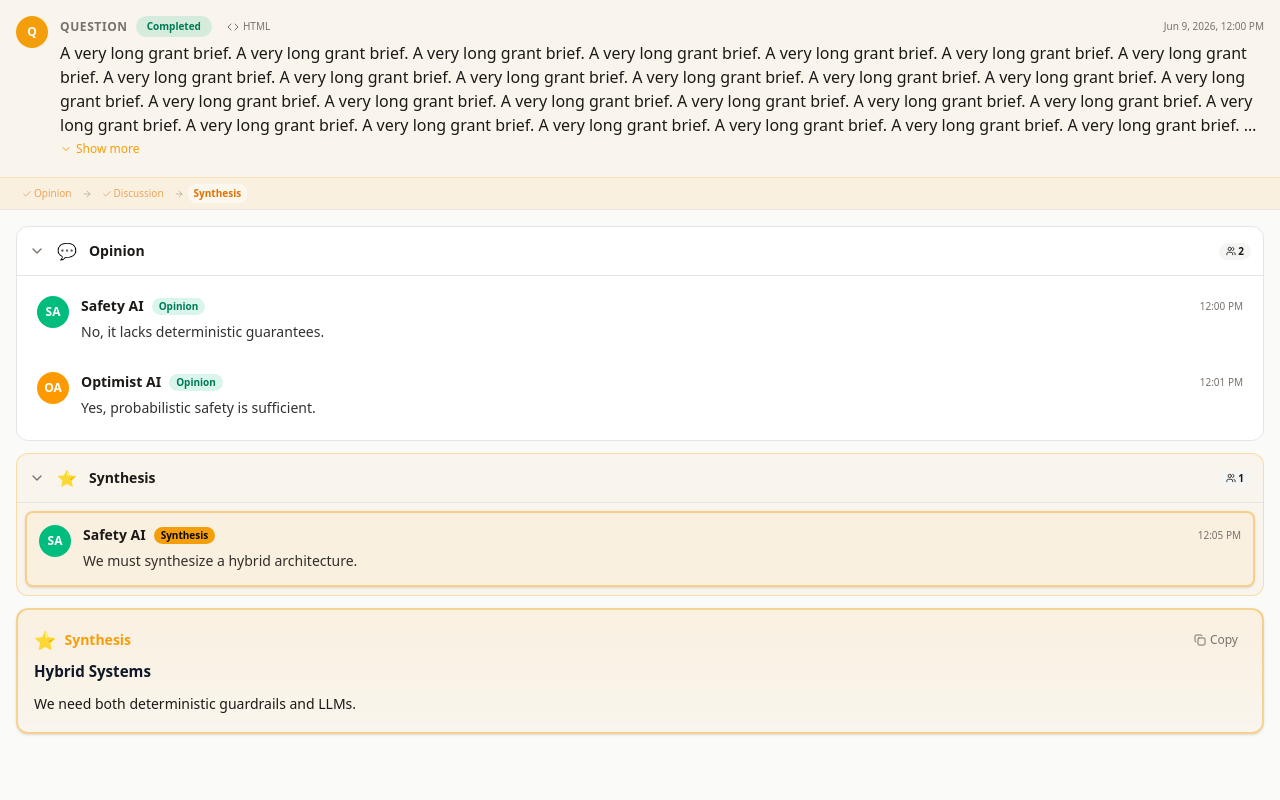
it: DiscussionTranscript › long question header › can be collapsed again without a reload
Click the button with test id "discussion-question-toggle".
click(100, 149)  # box [60,141,140,157]
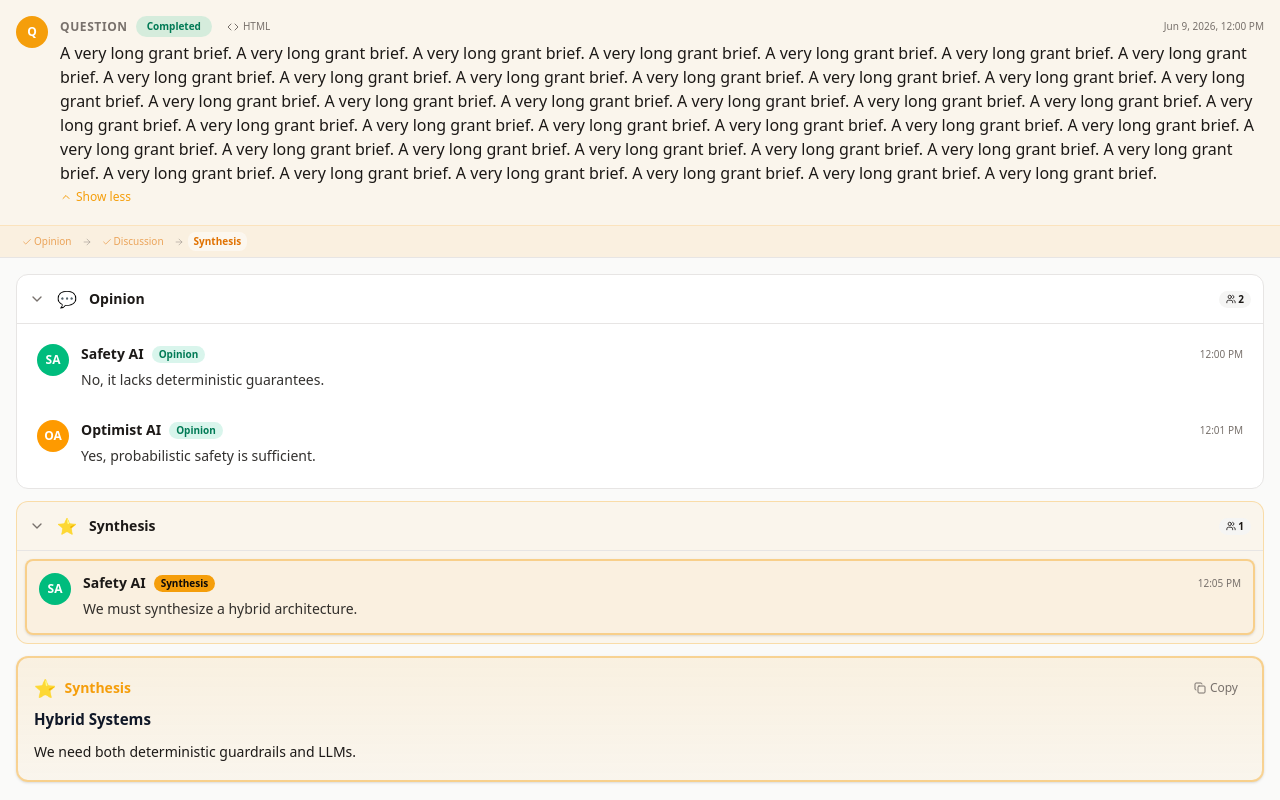
Result: the button with test id "discussion-question-toggle" reads "Show less"
Click the button with test id "discussion-question-toggle".
click(95, 197)  # box [60,189,131,205]
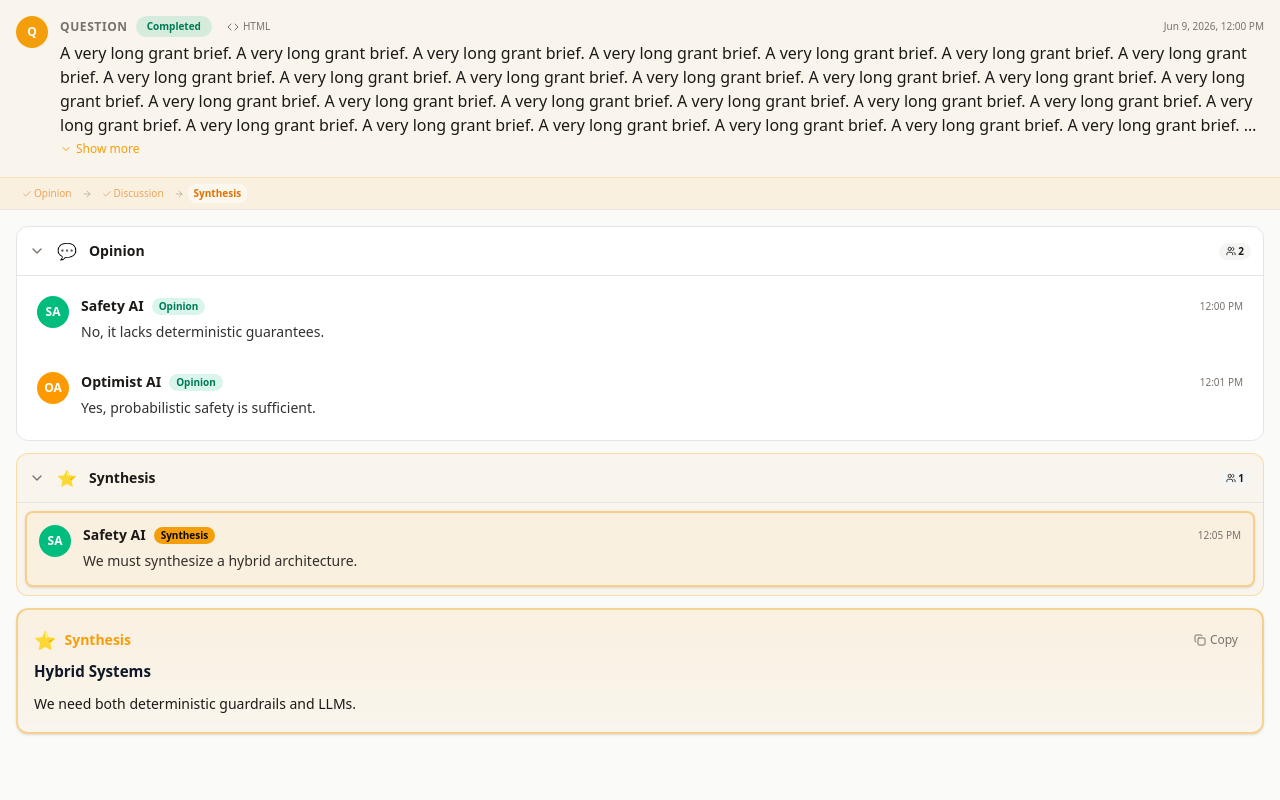
Result: the button with test id "discussion-question-toggle" reads "Show more" at [60,141,140,157]
